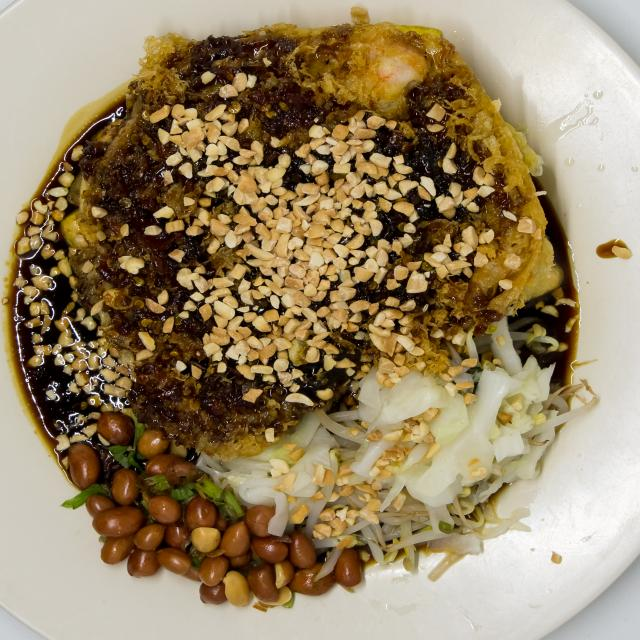Tahu-Telur: (20, 8, 581, 605)
